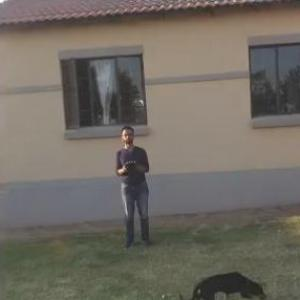follow: (116, 121, 158, 259)
null: (175, 268, 273, 299)
